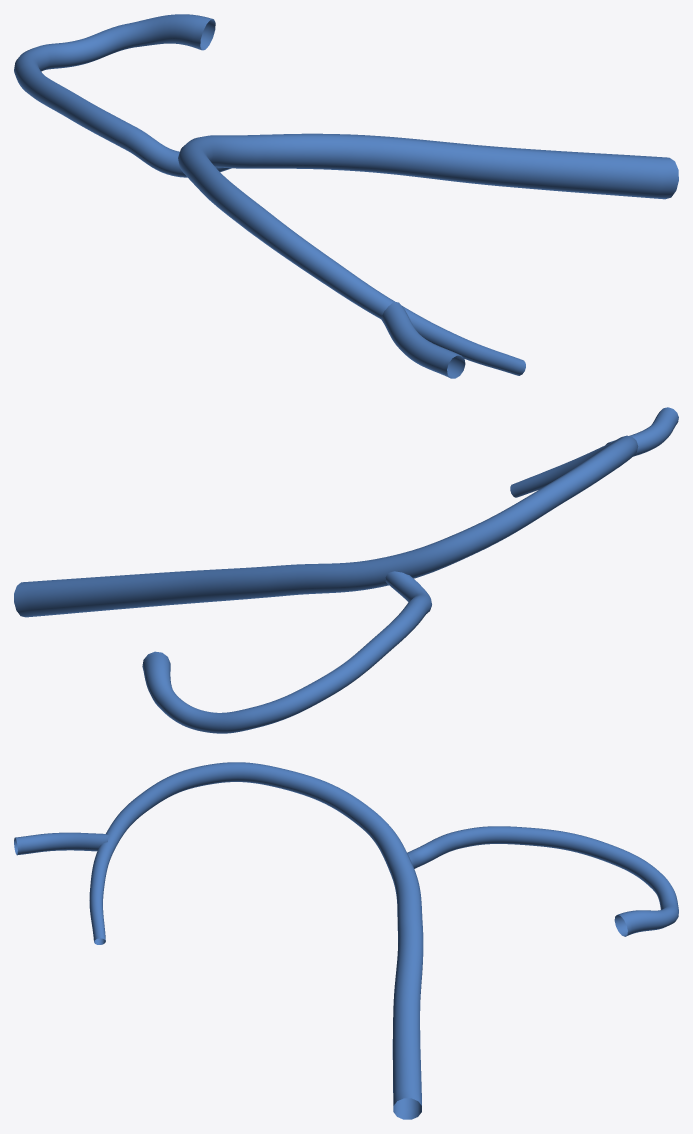
3 renders of one model, top to bottom at view 1: azimuth 30°, elevation 25°; view 2: azimuth 150°, elevation 25°; view 3: azimuth 270°, elevation 25°, orthographic. The views are drawn at different scales.
Parts seen in each view (by area): view 1: 右结肠静脉; view 2: 右结肠静脉; view 3: 右结肠静脉.
Boxes of the visible parts, x1,y1,x2,y2 form: 右结肠静脉: [14, 14, 678, 378]; 右结肠静脉: [14, 407, 678, 733]; 右结肠静脉: [14, 762, 678, 1119].
Bounding box in the file's own units: 0.0699 × 0.0272 × 0.0988.
